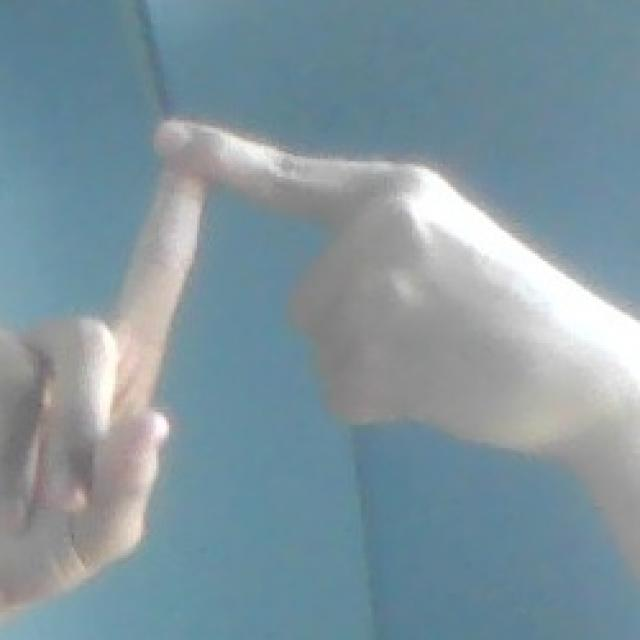Alphabet-E: (0, 120, 640, 614)
